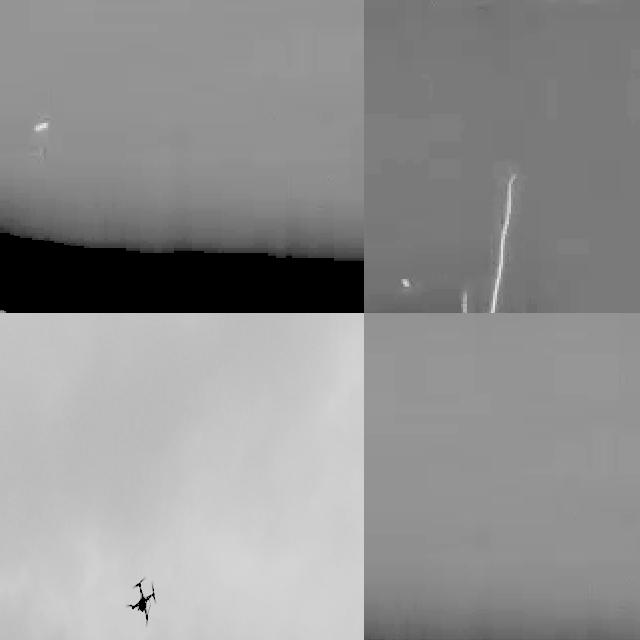0: (395, 270, 421, 300)
1: (26, 117, 56, 144)
drone: (126, 575, 158, 628)
